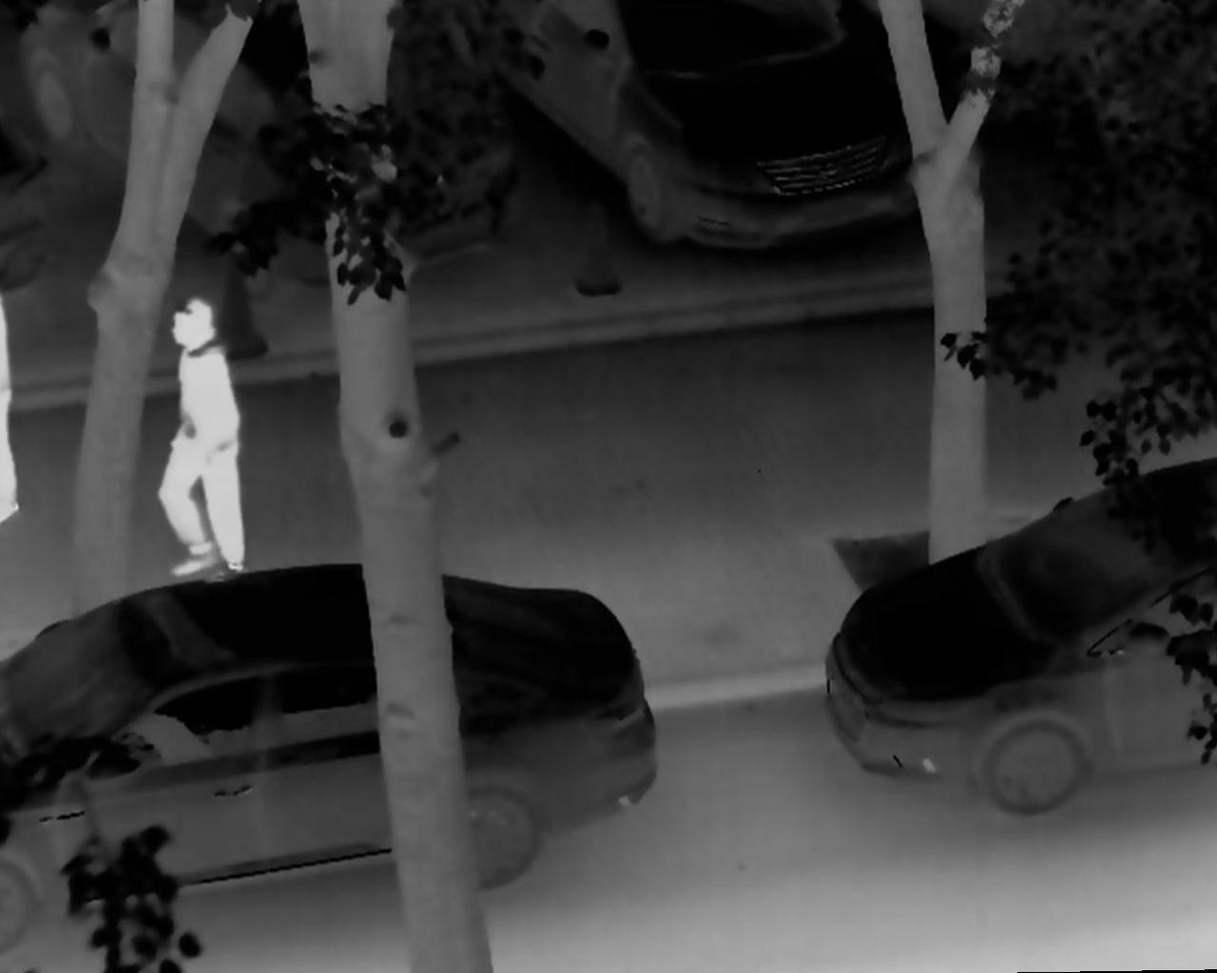person: (161, 301, 253, 587)
